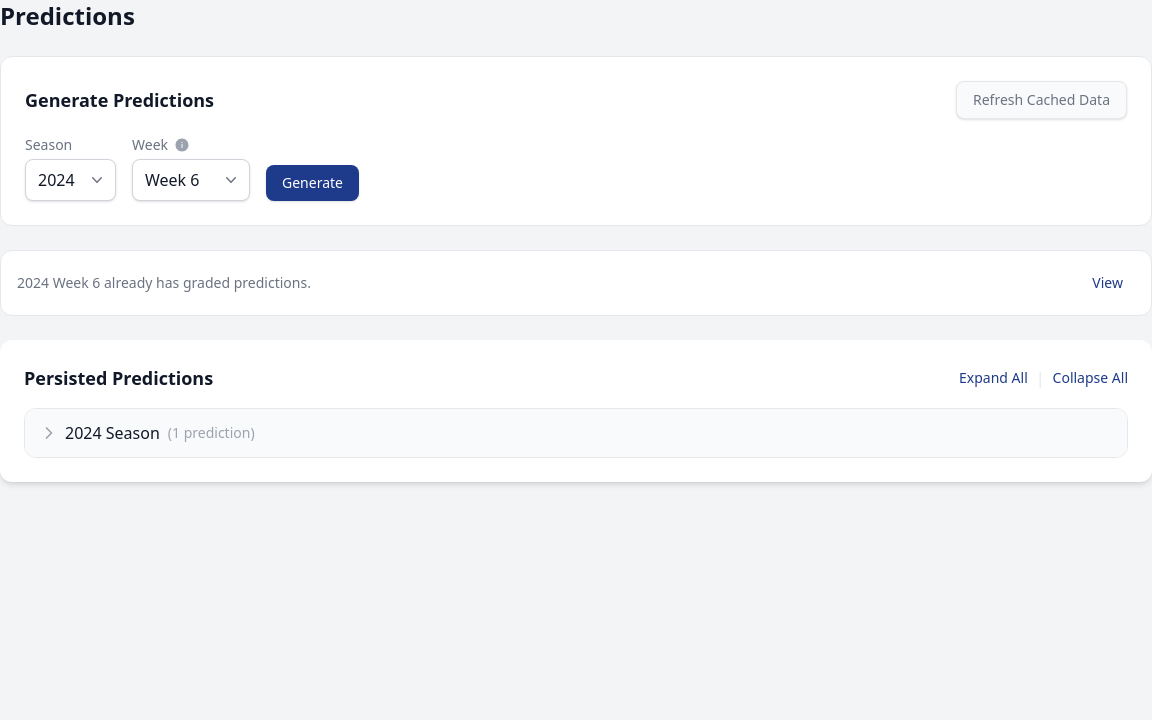
PredictionsPage › confirms before generating over an already-graded week and describes its state
The width and height of the screenshot is (1152, 720).
Click the button "Generate". click: (312, 183)
box: left=266, top=165, right=359, bottom=201
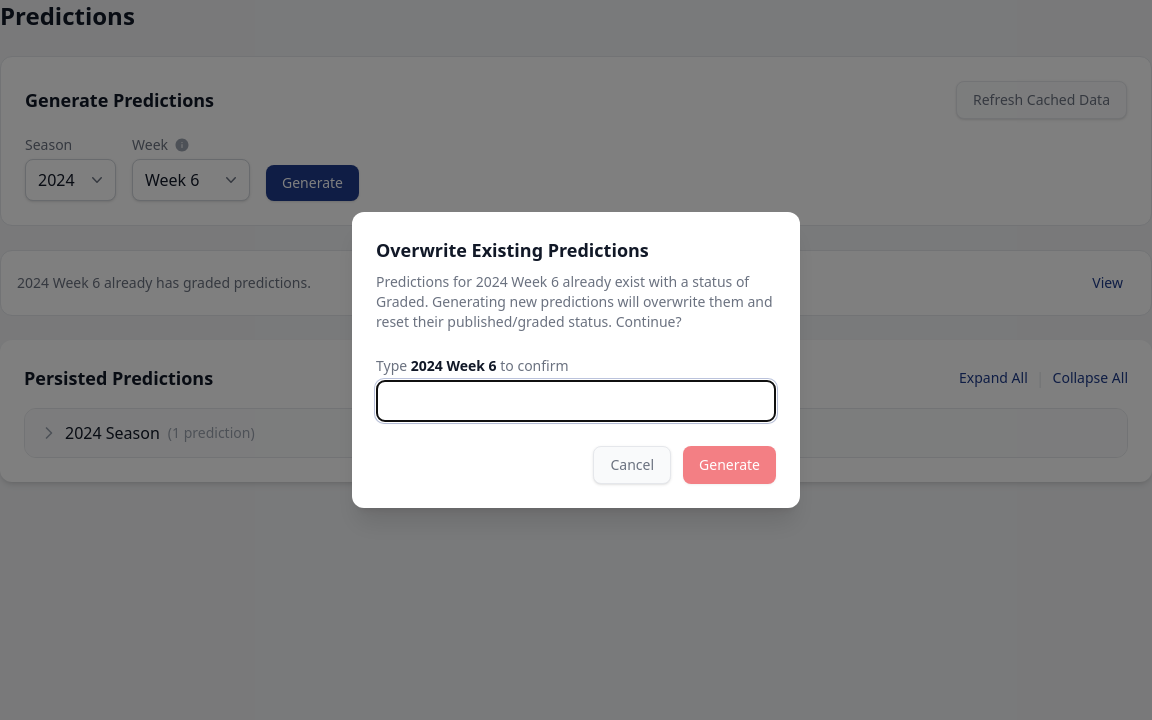
Expected: the heading "Overwrite Existing Predictions" is shown, left=376, top=238, right=649, bottom=262
Expected: the text "status of Graded" is shown, left=376, top=272, right=772, bottom=331
